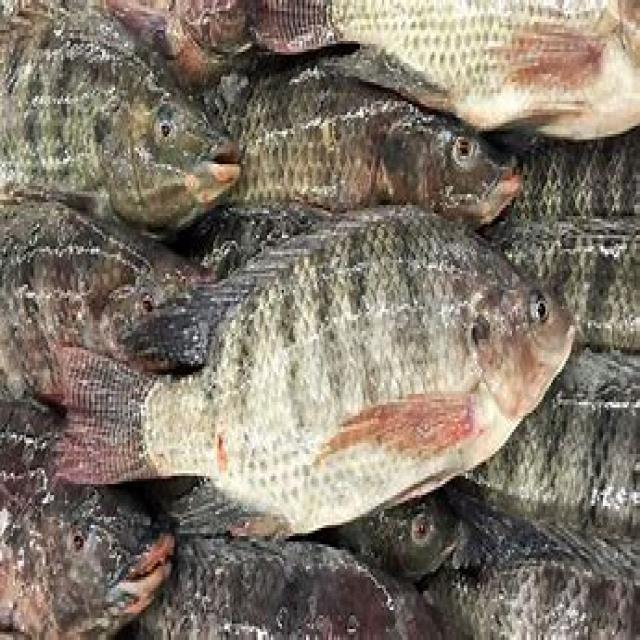Tilapia: (62, 205, 574, 529)
